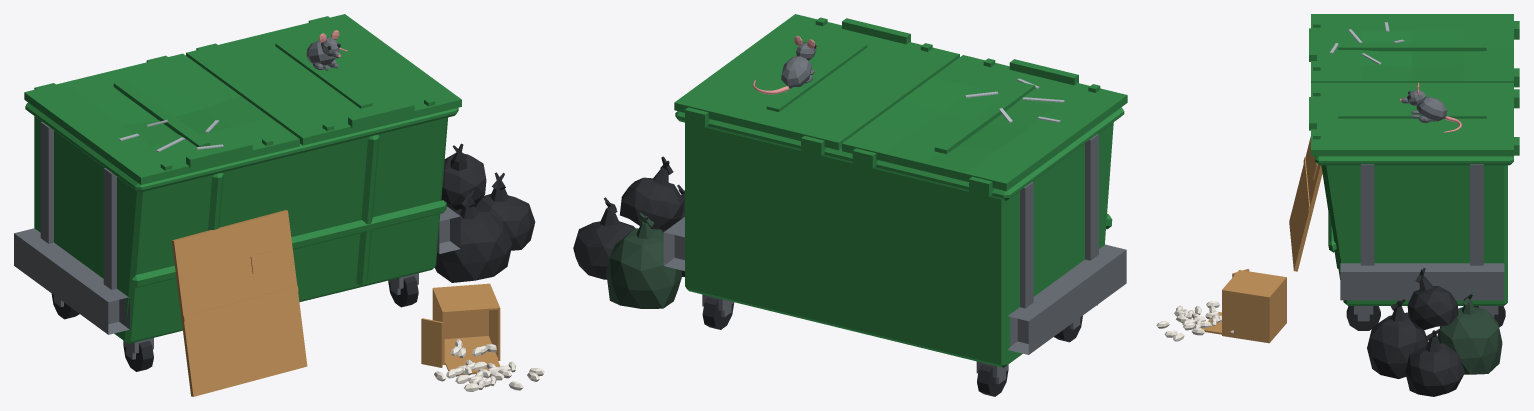
The model's file is city-dumpster.glb.
The picture shows the model from 3 angles, left to right: view 1: azimuth 30°, elevation 25°; view 2: azimuth 150°, elevation 25°; view 3: azimuth 270°, elevation 25°; orthographic projection. The views are drawn at different scales.
Visible parts, largest first — view 1: Body, Lid_L, Cardboard_Flat, Lid_R, ForkPockets, Box_Small, TrashBag_1, PackingPeanuts, TrashBag_3, TrashBag_4, Box_Small_Flaps, Rat (+3 smaller); view 2: Body, Lid_L, Lid_R, ForkPockets, TrashBag_2, TrashBag_4, TrashBag_3, Rat, Casters, Wheel_BR, Wheel_BL; view 3: Body, Lid_R, Lid_L, ForkPockets, Box_Small, TrashBag_2, TrashBag_1, TrashBag_3, Cardboard_Flat, TrashBag_4, PackingPeanuts, Rat (+2 smaller).
Boxes of the visible parts, x1,y1,x2,y2 form: Body: (25,102,458,343); Lid_L: (24,53,299,184); Cardboard_Flat: (171,210,307,396); Lid_R: (186,14,461,145); ForkPockets: (14,121,460,334); Box_Small: (432,283,500,364); TrashBag_1: (434,190,512,282); PackingPeanuts: (434,339,544,391); TrashBag_3: (475,172,535,250); TrashBag_4: (441,143,486,211); Box_Small_Flaps: (421,318,499,375); Rat: (306,37,340,70); Body: (675,107,1124,367); Lid_L: (842,55,1127,196); Lid_R: (674,14,959,155); ForkPockets: (663,134,1126,354); TrashBag_2: (606,212,681,308); TrashBag_4: (620,156,683,230); TrashBag_3: (573,197,635,279); Rat: (781,42,816,88); Casters: (702,294,1080,384); Wheel_BR: (702,297,733,329); Wheel_BL: (977,364,1008,396); Body: (1315,156,1513,305); Lid_R: (1309,82,1519,156); Lid_L: (1309,14,1519,87); ForkPockets: (1340,164,1504,300); Box_Small: (1222,270,1286,343); TrashBag_2: (1437,292,1502,374); TrashBag_1: (1367,299,1428,378); TrashBag_3: (1405,329,1464,396); Cardboard_Flat: (1289,136,1322,271); TrashBag_4: (1407,268,1458,329); PackingPeanuts: (1156,301,1233,341); Rat: (1401,90,1447,122).
Size of the model in its own units: 12.21 by 6.39 by 9.32.
